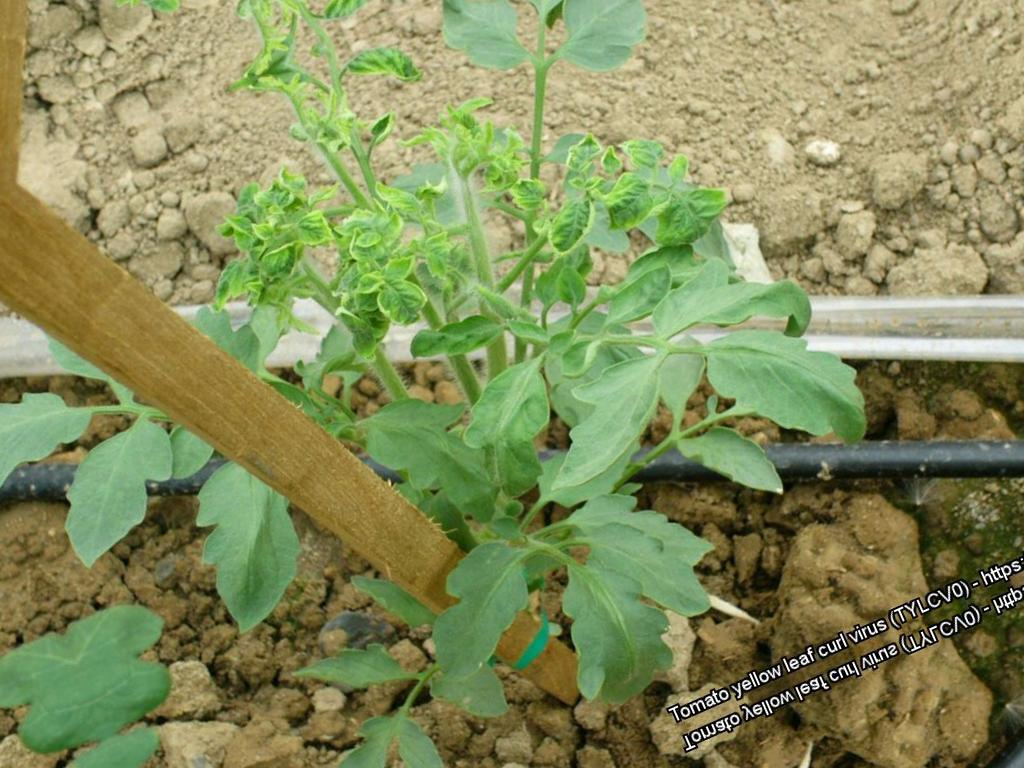Tomato leaf: (695, 292, 881, 496), (522, 313, 722, 484), (526, 532, 693, 721), (341, 363, 512, 547), (163, 445, 321, 635), (30, 409, 194, 573), (397, 530, 560, 692), (573, 489, 727, 648), (0, 349, 117, 494), (287, 615, 422, 722), (670, 401, 788, 523), (427, 0, 559, 106), (535, 0, 667, 92), (586, 258, 687, 339)
